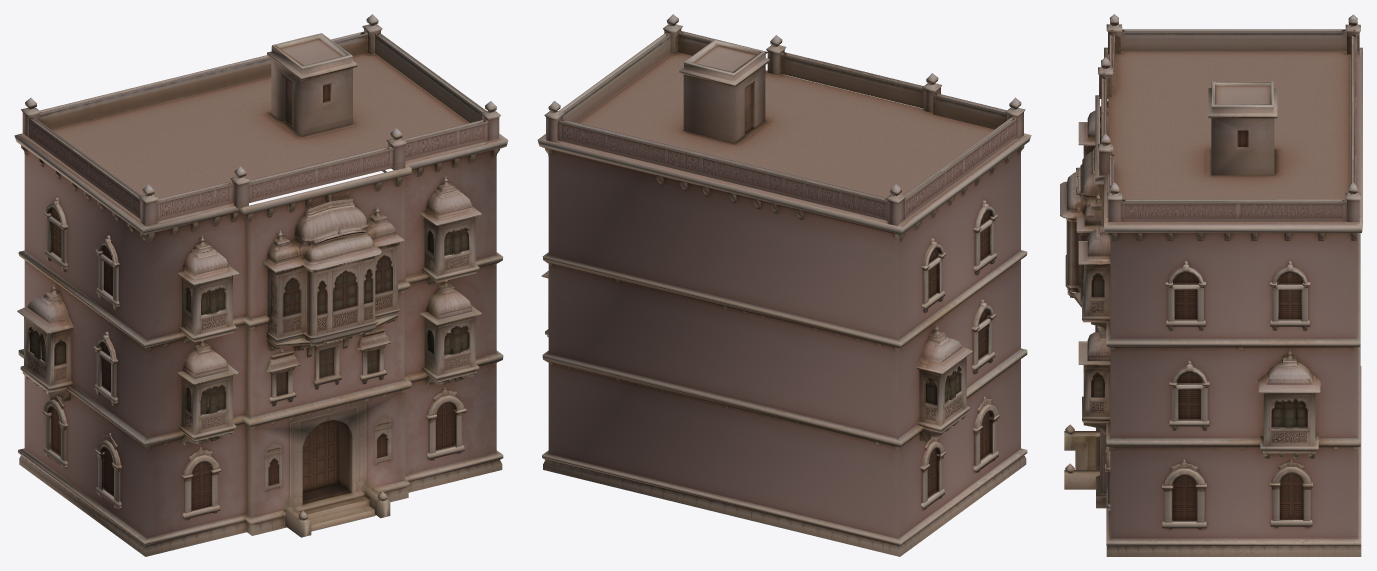
The model's file is pink palace 3d model.glb.
The picture shows the model from 3 angles, left to right: view 1: azimuth 30°, elevation 25°; view 2: azimuth 150°, elevation 25°; view 3: azimuth 270°, elevation 25°; orthographic projection.
Visible parts, largest first — view 1: tripo_1393583a_923a_4edb_bfd3_658347823017; view 2: tripo_1393583a_923a_4edb_bfd3_658347823017; view 3: tripo_1393583a_923a_4edb_bfd3_658347823017.
Part boxes in pixels (box(x1,y1,x2,y2)): tripo_1393583a_923a_4edb_bfd3_658347823017: box(14, 14, 508, 556); tripo_1393583a_923a_4edb_bfd3_658347823017: box(537, 14, 1031, 556); tripo_1393583a_923a_4edb_bfd3_658347823017: box(1060, 14, 1362, 556).
Bounding box in the file's own units: 0.9995 × 0.9536 × 0.6489.
1 material, 1 textured.
